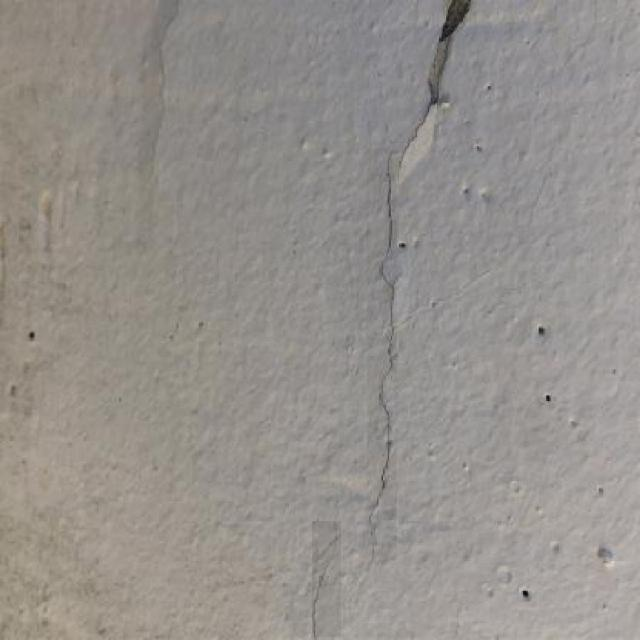vertical crack: (367, 149, 397, 565), (312, 521, 341, 637)
